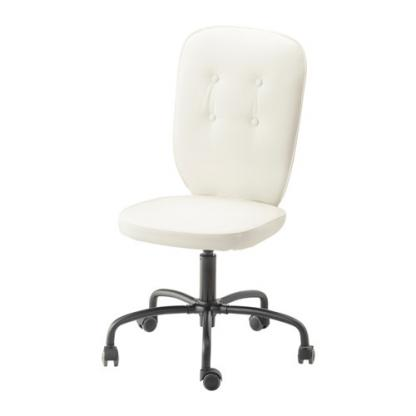Chair: (99, 23, 317, 392)
